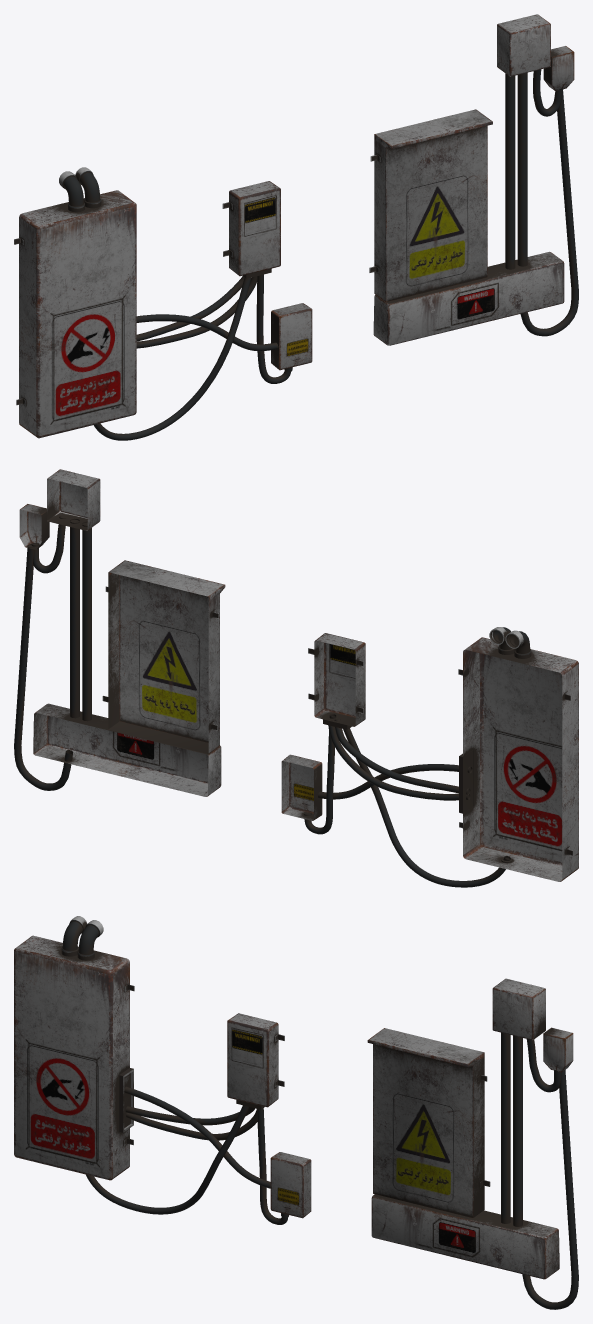
File: electricity_box_-25mb.glb
3 renders of one model, top to bottom at view 1: azimuth 30°, elevation 25°; view 2: azimuth 150°, elevation 25°; view 3: azimuth 330°, elevation 25°, orthographic.
Visible parts, largest first — view 1: 01_all_0, 02_all_0; view 2: 01_all_0, 02_all_0; view 3: 01_all_0, 02_all_0.
Part boxes in pixels (x1,y1,x2,y2): 01_all_0: (14,167,312,440); 02_all_0: (369,14,578,345); 01_all_0: (281,627,578,887); 02_all_0: (14,469,225,796); 01_all_0: (14,916,311,1224); 02_all_0: (367,978,578,1309).
Bounding box in the file's own units: 17.01 × 9.23 × 1.08.
1 material, 1 textured.
